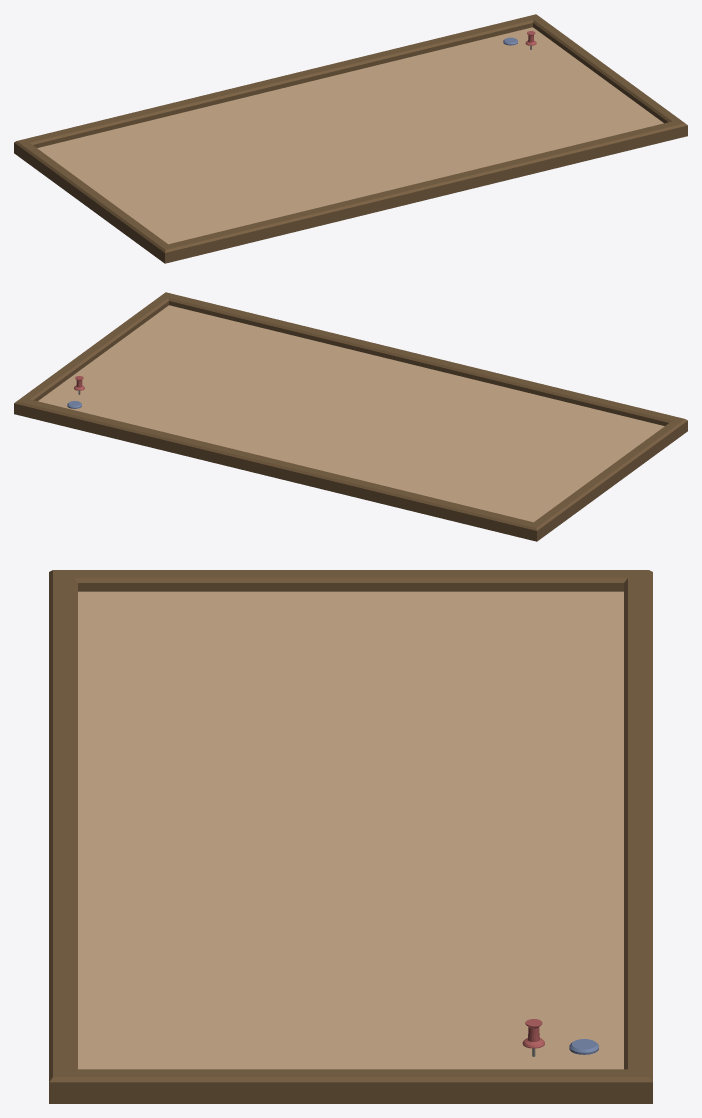
3 views of the same model, one above another, from view 1: azimuth 30°, elevation 25°; view 2: azimuth 150°, elevation 25°; view 3: azimuth 270°, elevation 25° (orthographic). The views are drawn at different scales.
Parts seen in each view (by area): view 1: Notice_Board; view 2: Notice_Board; view 3: Notice_Board.
Part boxes in pixels (left/top/right/bottom): Notice_Board: left=14, top=14, right=687, bottom=263; Notice_Board: left=14, top=292, right=687, bottom=541; Notice_Board: left=49, top=570, right=652, bottom=1103.
Bounding box in the file's own units: 0.13 × 0.00555 × 0.065.
